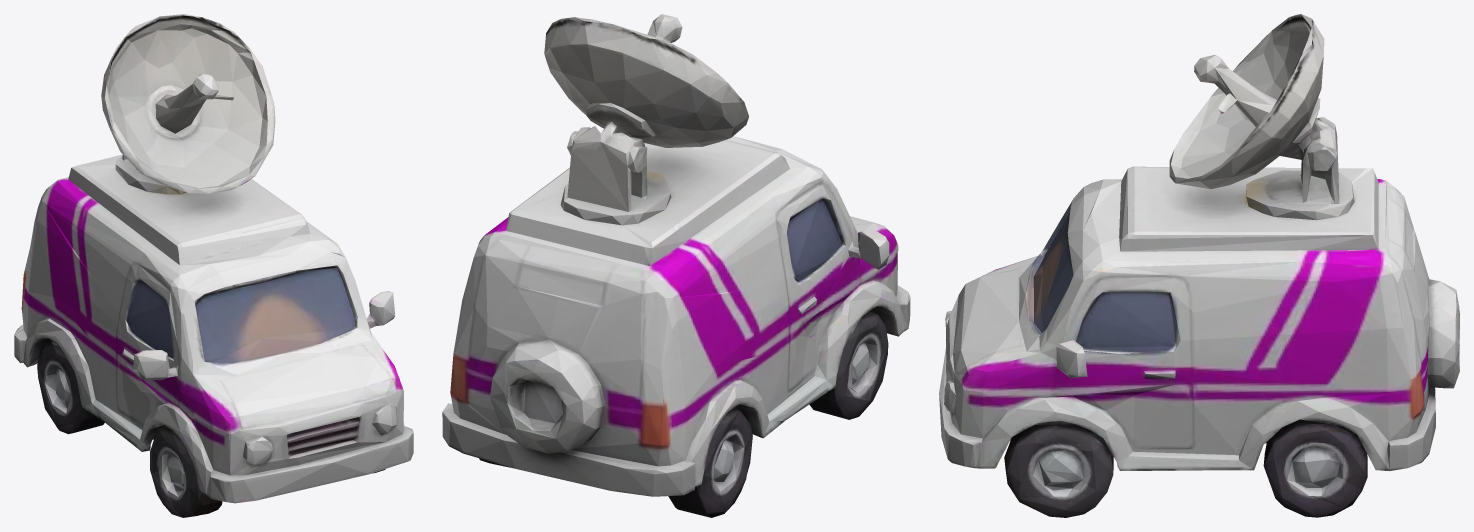
Rendered from car-news.glb.
3 views of the same model, side by side, from view 1: azimuth 30°, elevation 25°; view 2: azimuth 150°, elevation 25°; view 3: azimuth 270°, elevation 25° (orthographic). The views are drawn at different scales.
Parts seen in each view (by area): view 1: geometry_0; view 2: geometry_0; view 3: geometry_0.
Part boxes in pixels (box(x1,y1,x2,y2)): geometry_0: box(14, 14, 413, 517); geometry_0: box(442, 14, 910, 517); geometry_0: box(939, 14, 1459, 517).
Size of the model in its own units: 0.4862 by 0.7021 by 0.758.
1 material, 1 textured.
